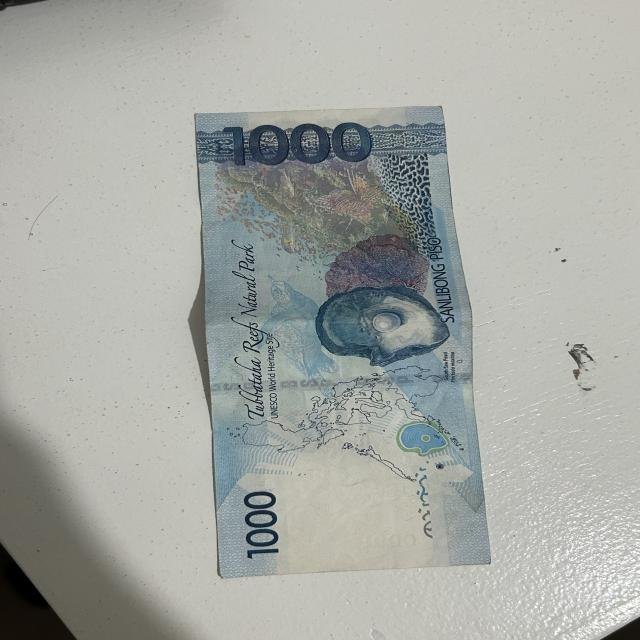1000_pearl: (316, 288, 435, 366)
1000_pearl_watermark: (397, 421, 445, 457)
